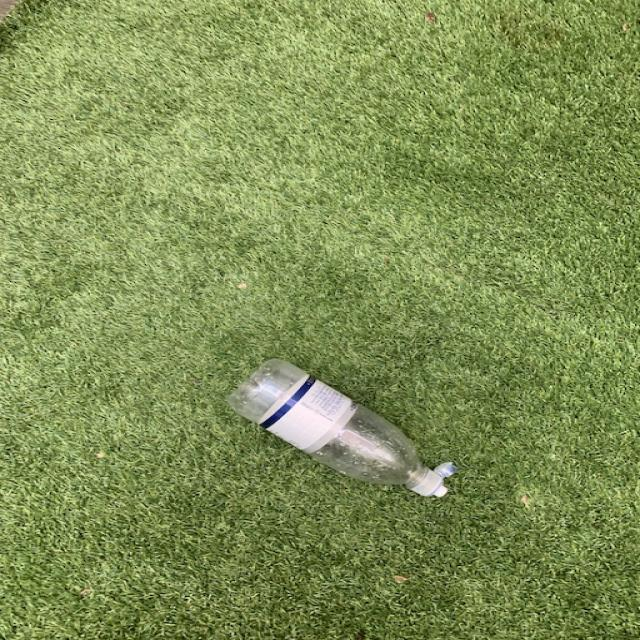litter: (228, 357, 462, 501)
